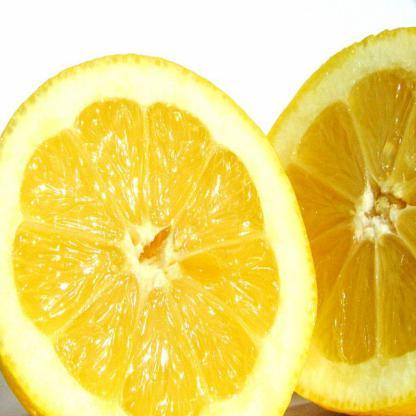lemon: (0, 52, 319, 416), (265, 25, 416, 416)
